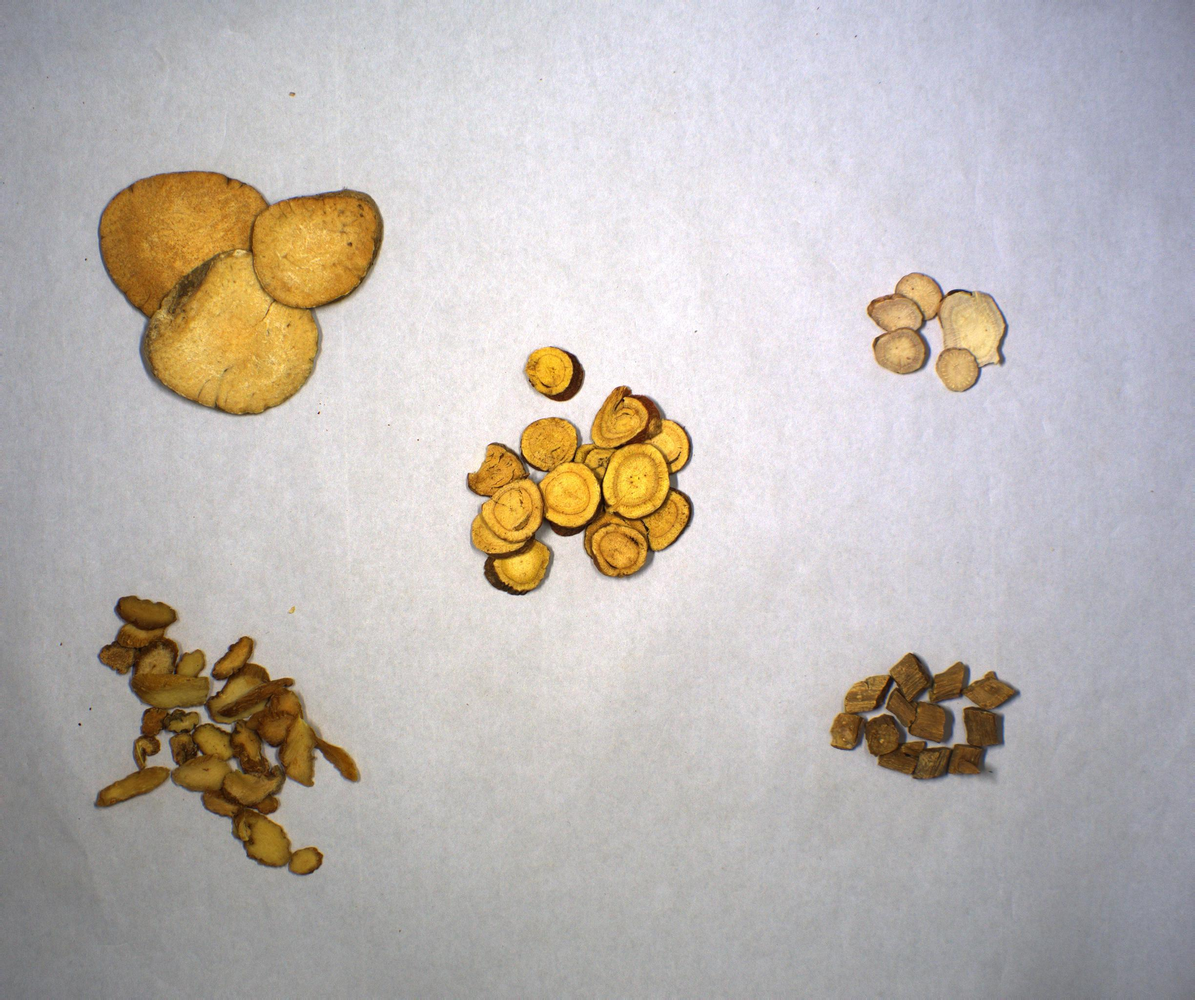baishao: (867, 271, 1008, 394)
gancaopian: (467, 349, 696, 599)
niuxi: (830, 654, 1021, 785)
yuzhu: (96, 597, 363, 879)
zexie: (100, 171, 387, 419)
